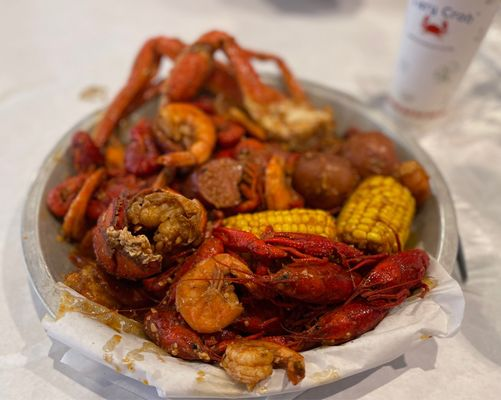pizza: (383, 0, 500, 122)
